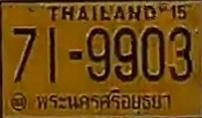0: (141, 26, 164, 80)
1: (48, 27, 55, 83)
3: (168, 26, 191, 80)
7: (12, 27, 36, 82)
9: (86, 27, 110, 81), (113, 28, 136, 80)
AYA: (32, 85, 174, 116)
